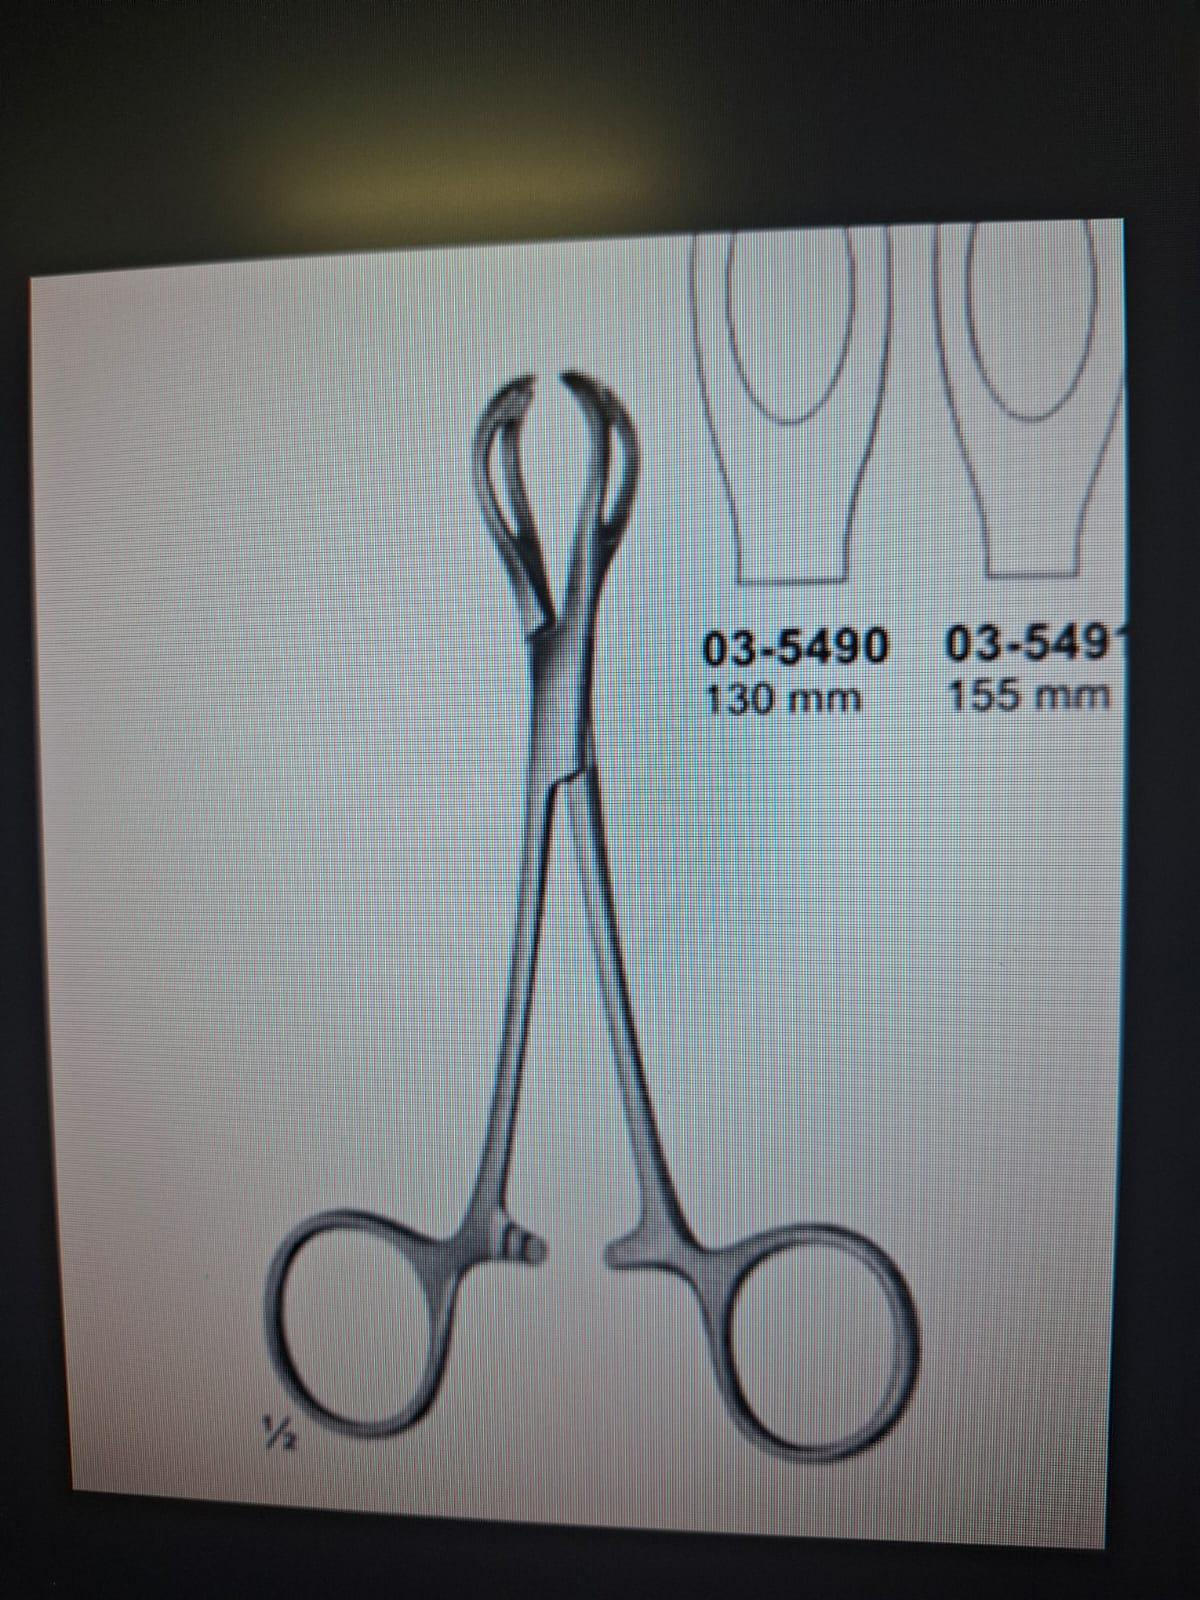Lane Tissue Forceps: (260, 360, 928, 1463)
